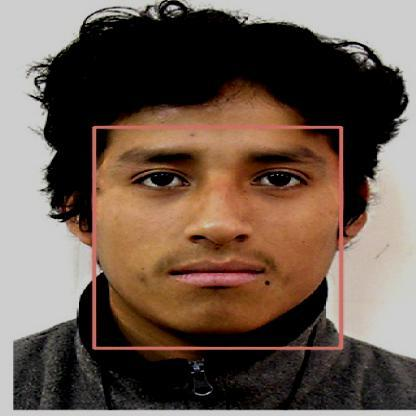without_mask: (94, 127, 341, 348)
